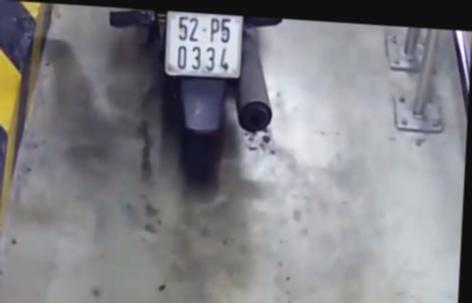License_Plate: (151, 11, 250, 89)
